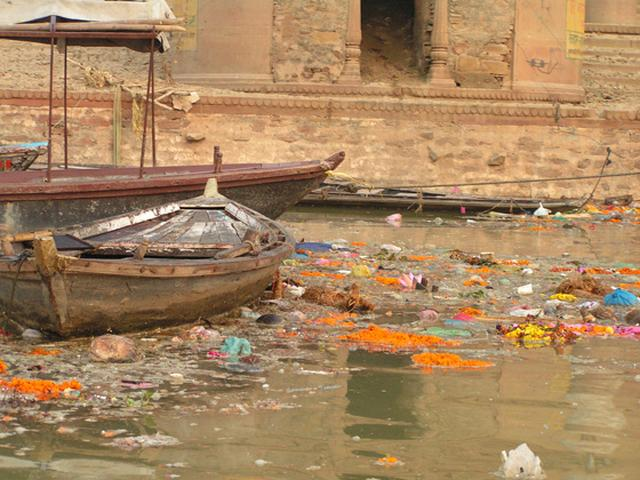garbage: (314, 248, 593, 354)
